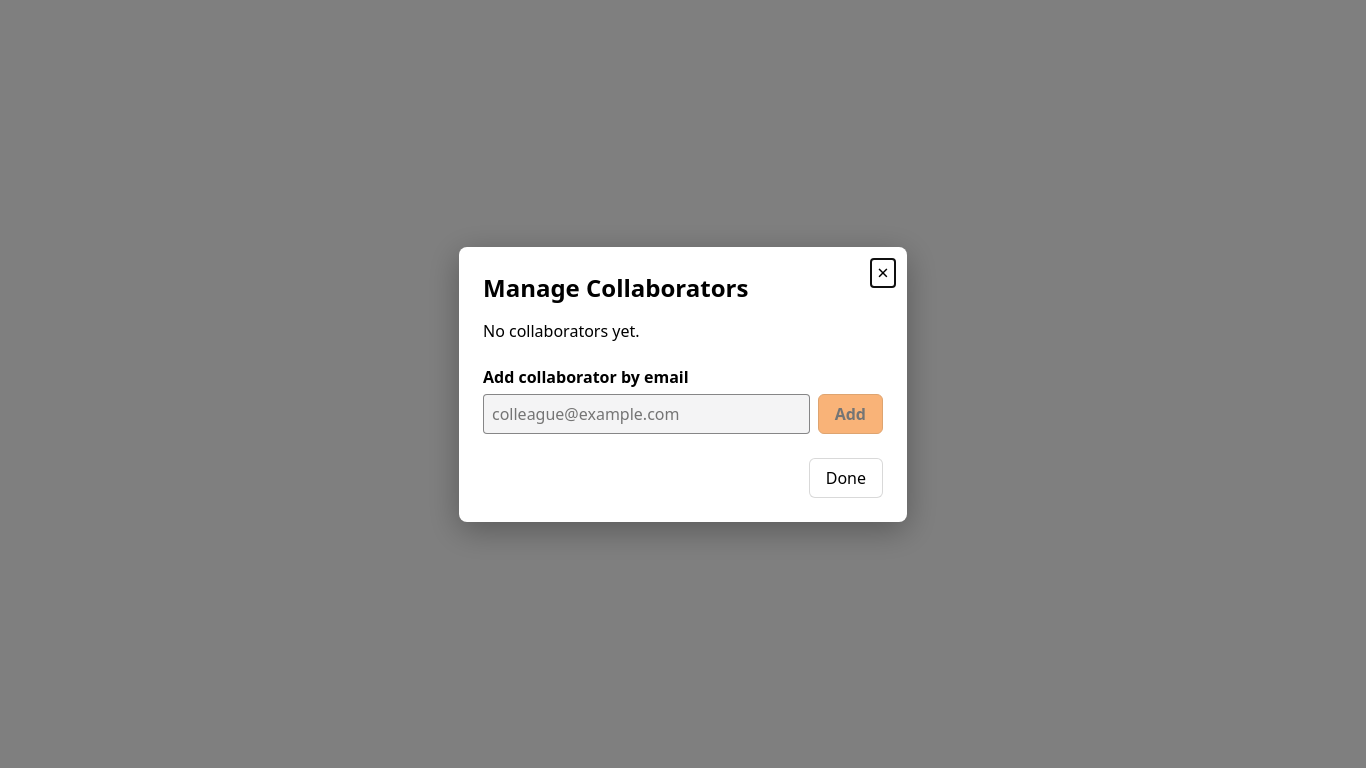
Test case: CollaboratorsModal › shows an inline validation error from a rejected add-by-email attempt
Type "stranger@example.com" into the field labelled "Add collaborator by email". click: (646, 414)
box: x1=483 y1=394 x2=810 y2=434
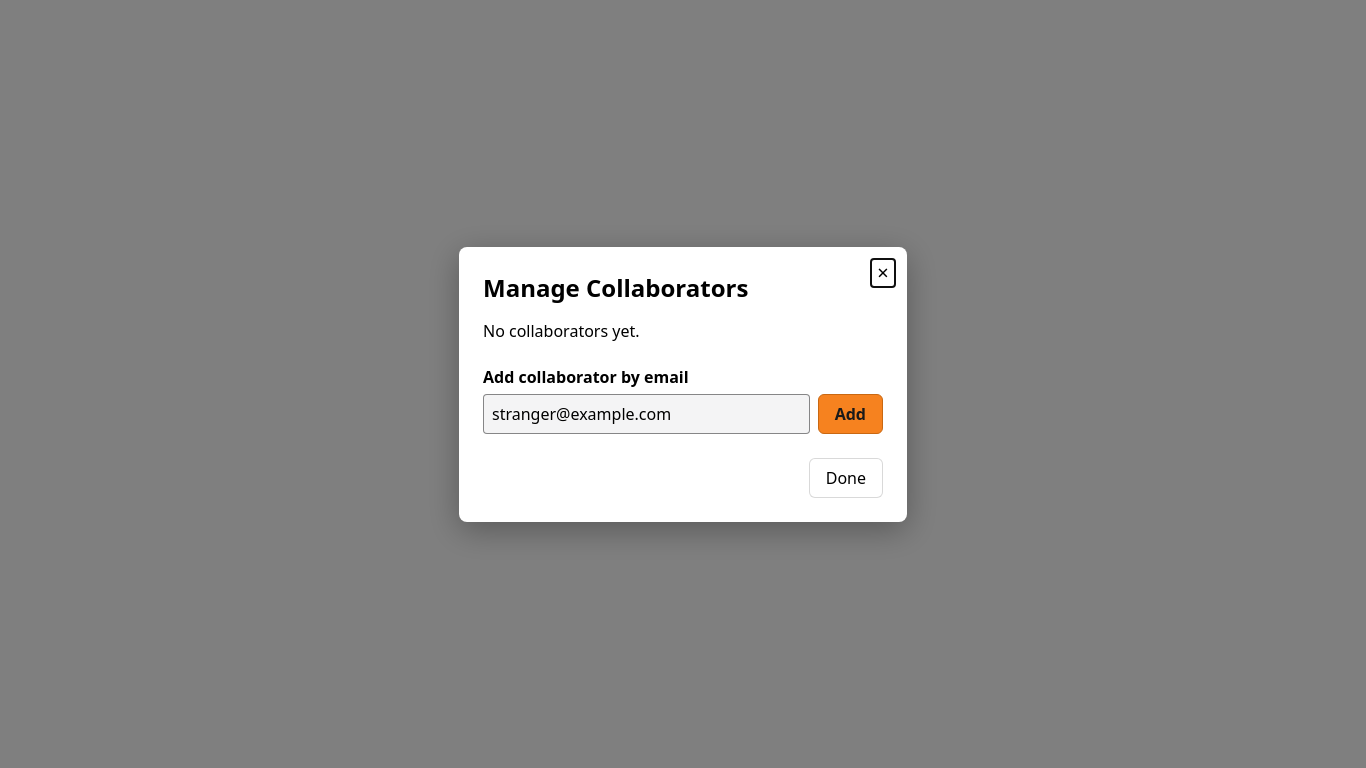
Click the button "Add". click: click(850, 414)
box: x1=818 y1=394 x2=883 y2=434
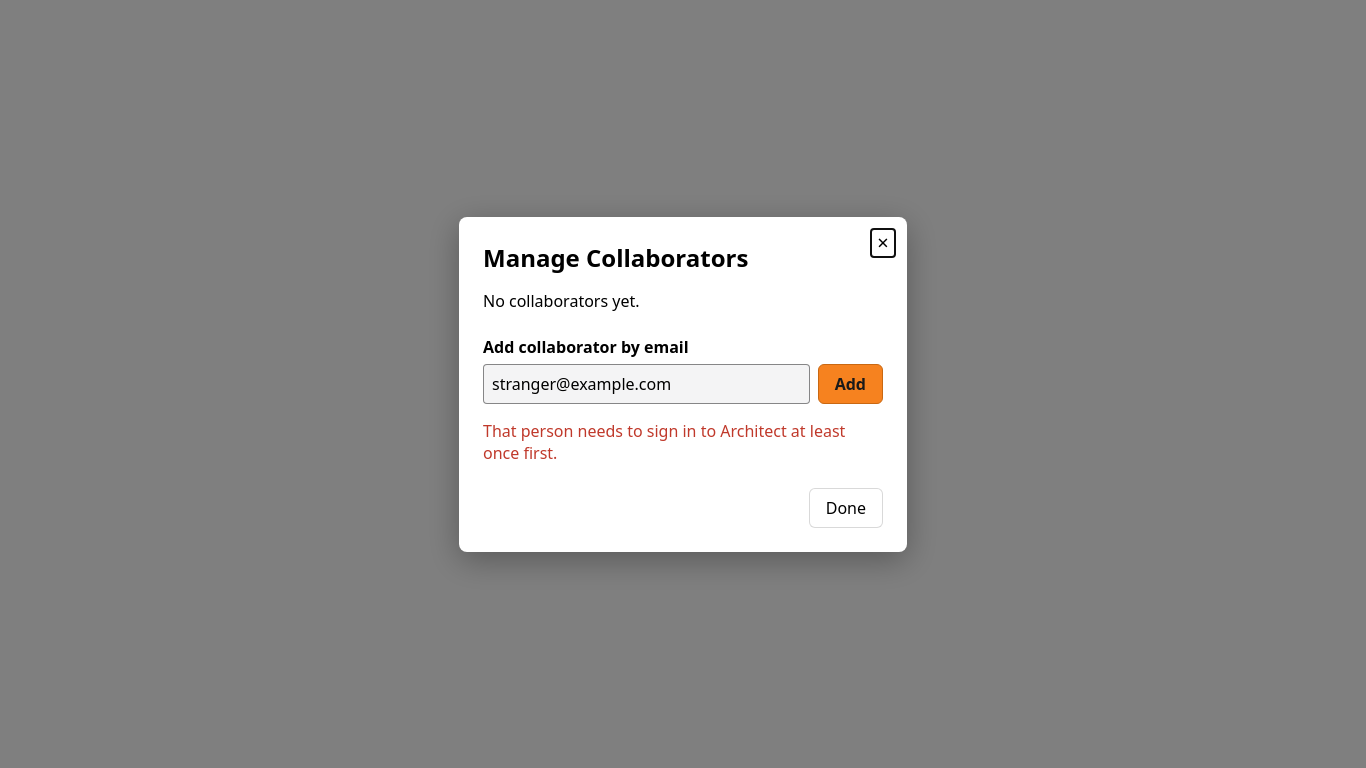
Expected: the message reads "That person needs to sign in to Architect at least once first.", x1=483 y1=420 x2=845 y2=464
